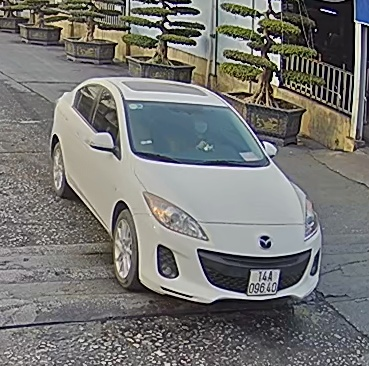vehicle plate: (245, 263, 280, 296)
